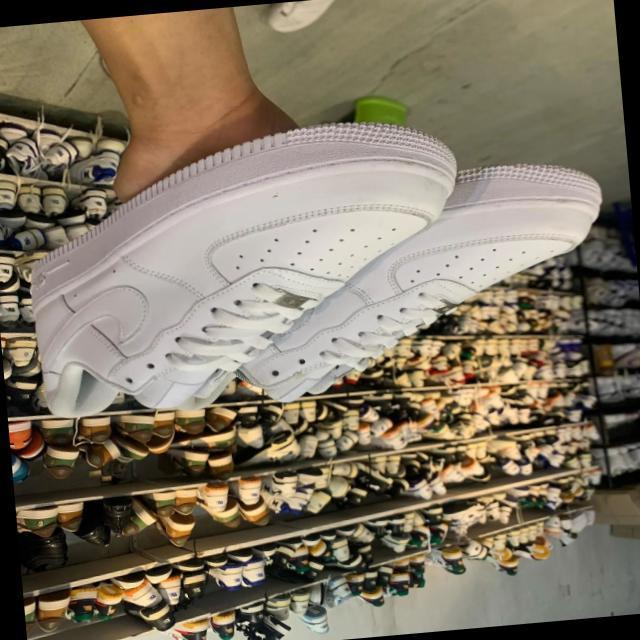nike fake air force: (5, 106, 482, 424), (164, 154, 622, 415)
